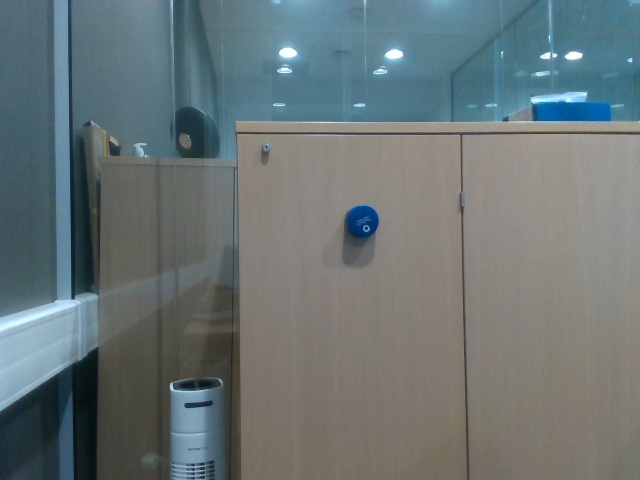alfa: (340, 204, 383, 240)
